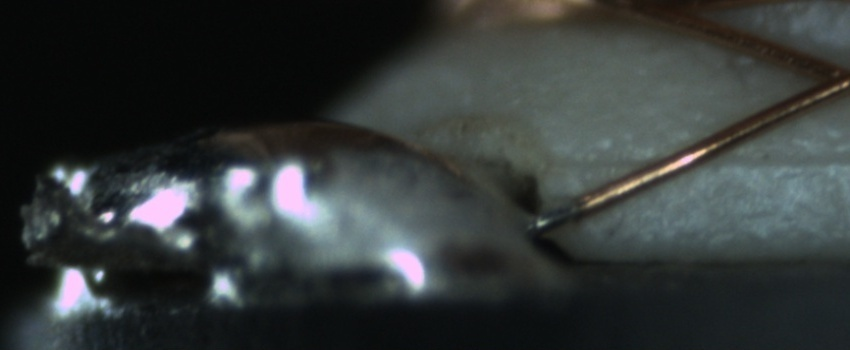CL: (781, 40, 849, 108)
DL: (567, 127, 845, 190)
TS: (527, 200, 579, 233)
